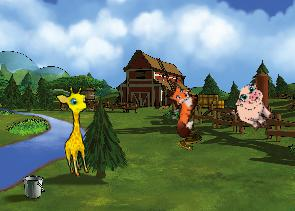fox: (156, 80, 203, 139)
giraffe: (54, 84, 100, 178)
pig: (225, 79, 281, 135)
